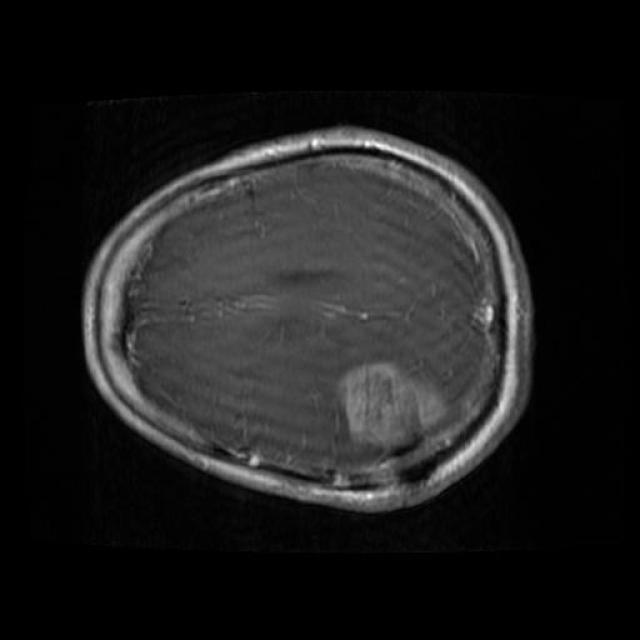Glioma: (338, 363, 446, 453)
